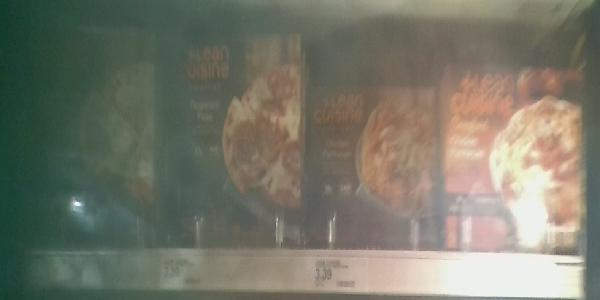pizza1: (449, 30, 592, 256), (158, 31, 303, 253), (304, 31, 449, 253)
